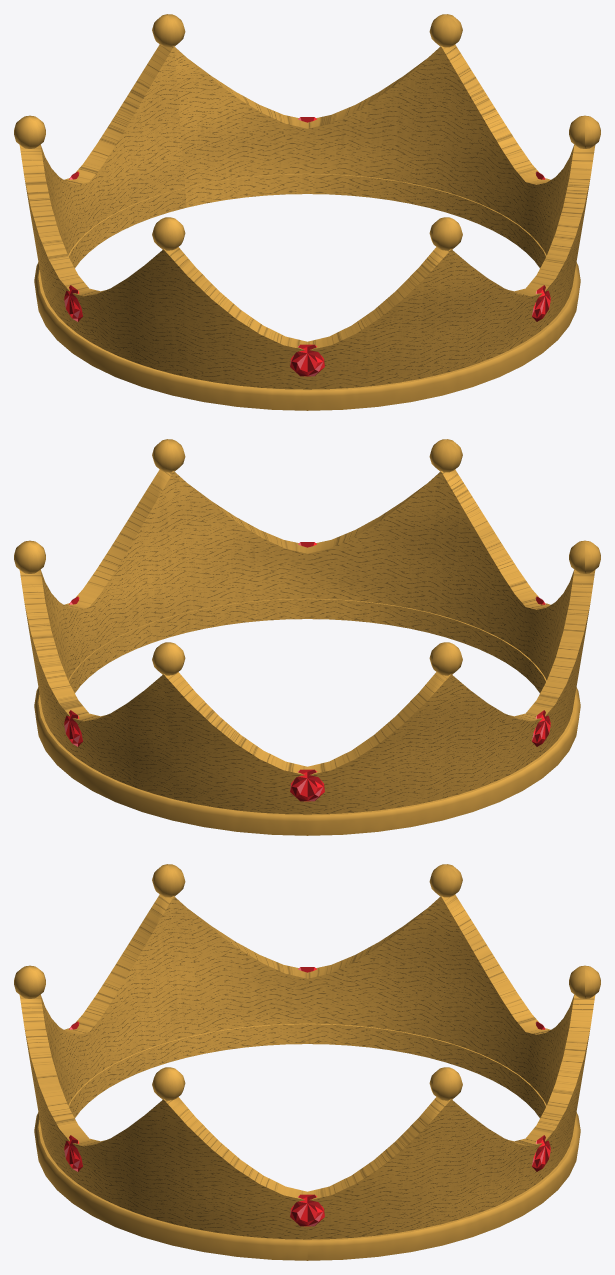
The model's file is Crown.glb.
The picture shows the model from 3 angles, top to bottom: view 1: azimuth 30°, elevation 25°; view 2: azimuth 150°, elevation 25°; view 3: azimuth 270°, elevation 25°; orthographic projection.
Visible parts, largest first — view 1: Crown; view 2: Crown; view 3: Crown.
Boxes of the visible parts, x1,y1,x2,y2 form: Crown: [14, 14, 600, 410]; Crown: [14, 439, 600, 835]; Crown: [14, 864, 600, 1260].
Bounding box in the file's own units: 1.31 × 0.48 × 1.4.
Materials: 1 (1 with a texture image).
